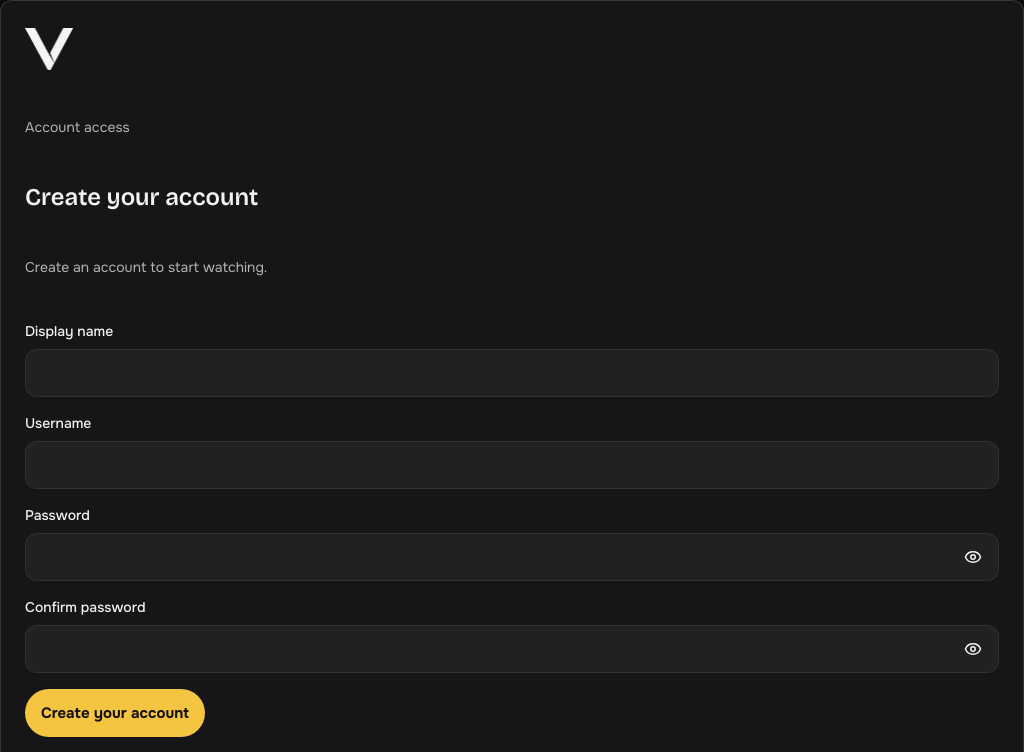
Scenario: public authentication › blocks mismatched registration passwords
This screenshot has width=1024, height=752.
In the field labelled "Display name": (512, 373) [25,349,999,397], type "A"
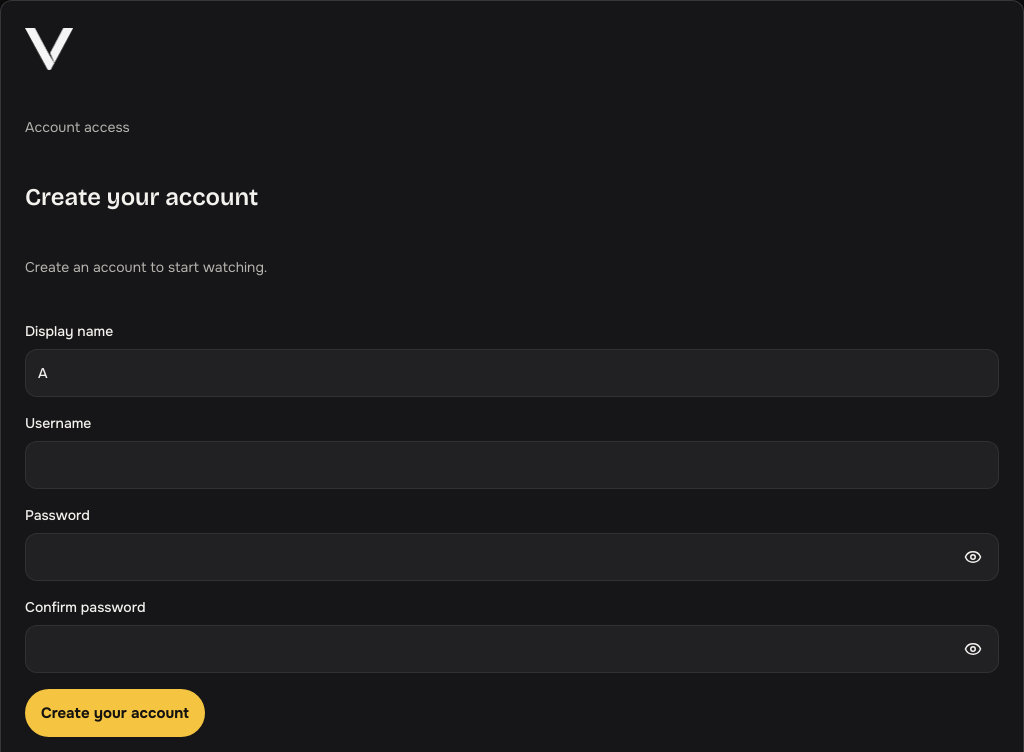
In the field labelled "Username": (512, 465) [25,441,999,489], type "alex"
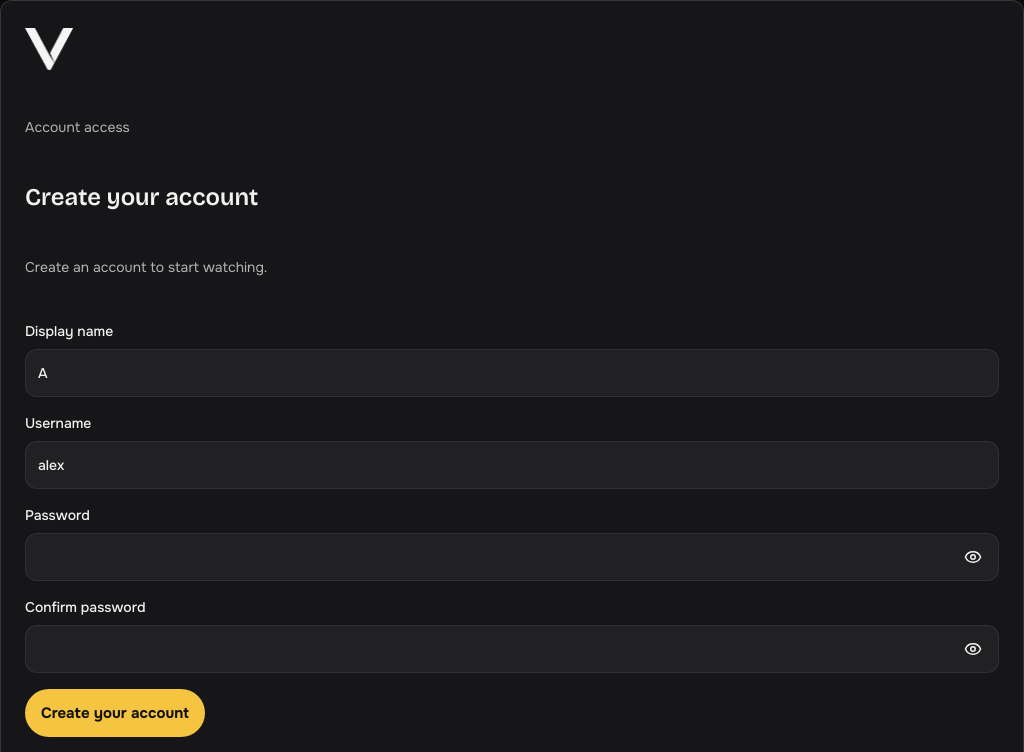
In the password field labelled "Password": (512, 557) [25,533,999,581], type "long-password"
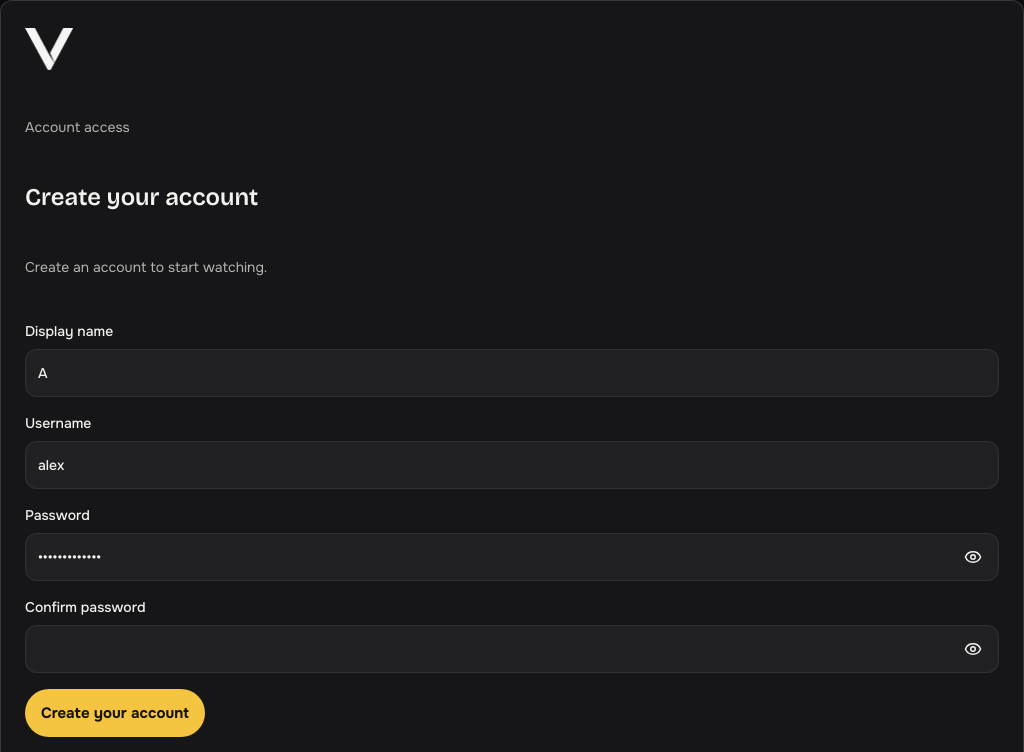
In the password field labelled "Confirm password": (512, 649) [25,625,999,673], type "different-pass"
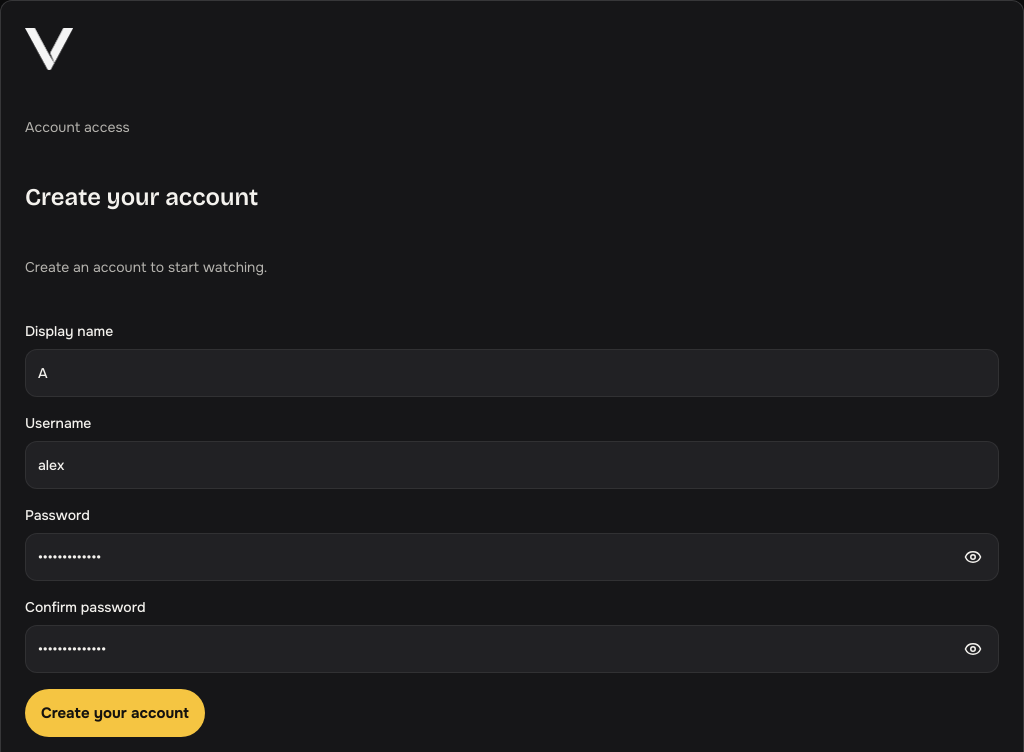
Click the button "Create your account": (115, 713) [25,689,205,737]
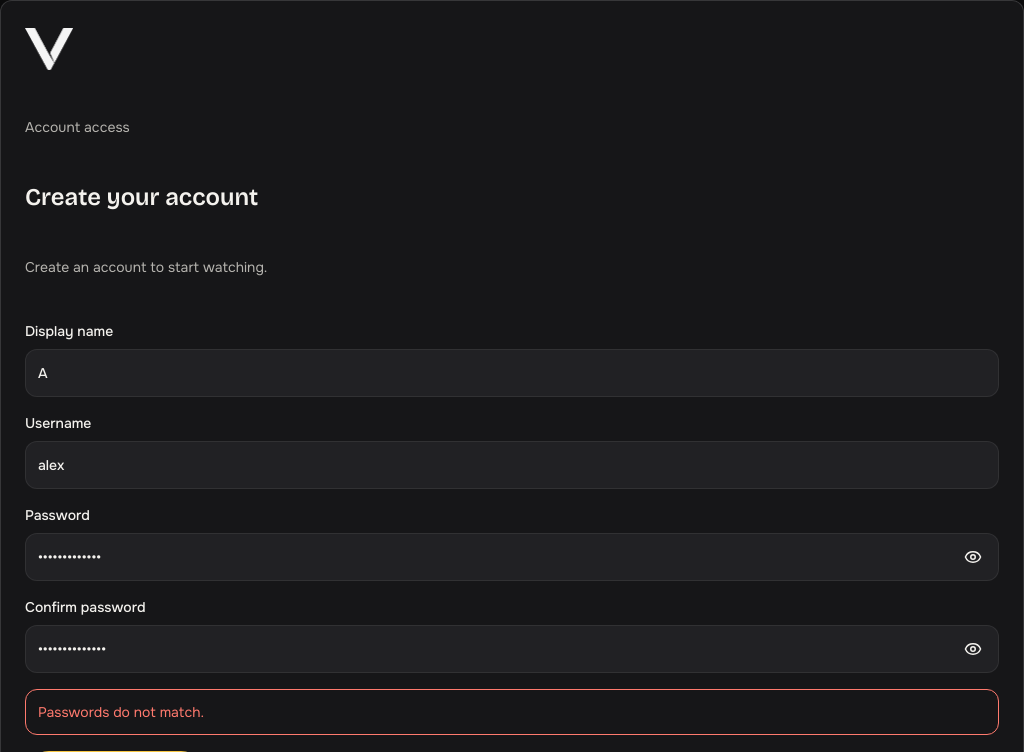
Now the message shows "Passwords do not match", box [38,703,204,721]
